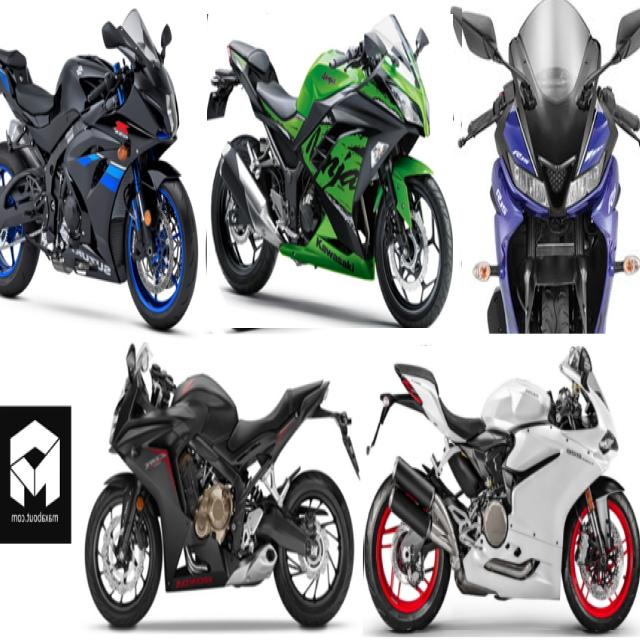motorcycle: (364, 346, 640, 630), (85, 344, 359, 628), (207, 15, 452, 328), (0, 10, 198, 329), (462, 0, 640, 334)
